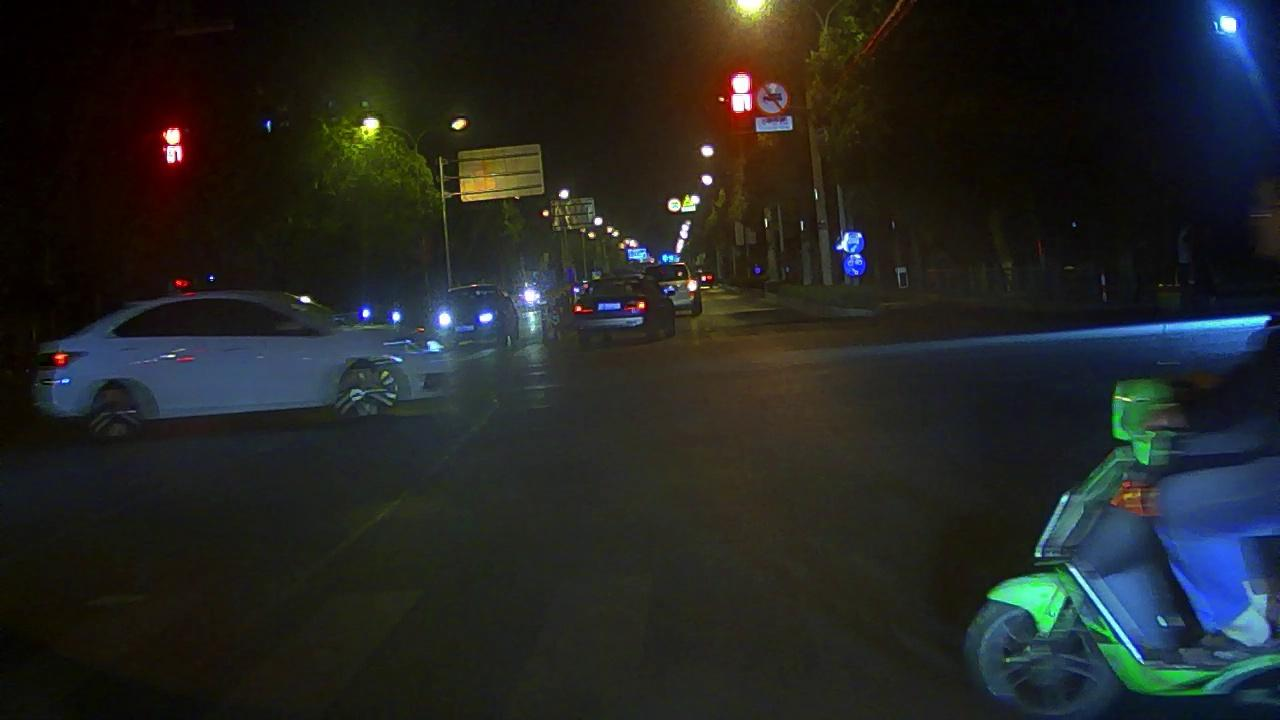traffic_light: (727, 67, 754, 120), (160, 123, 186, 166)
